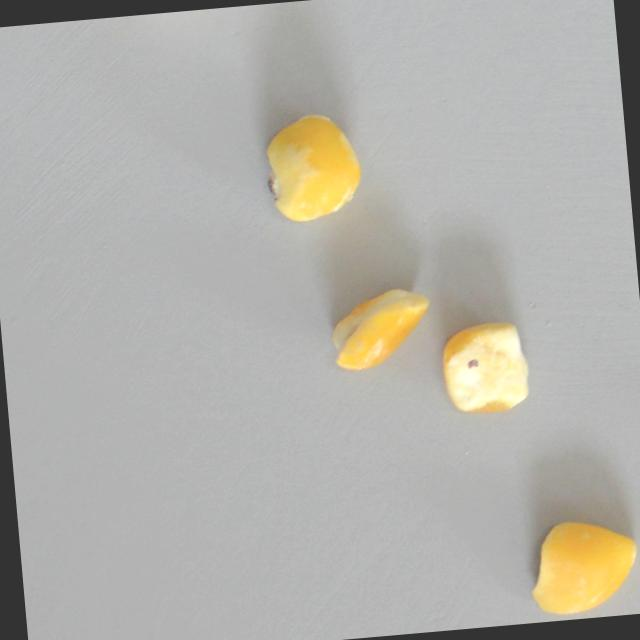dañado: (258, 105, 366, 227)
estandar: (522, 510, 640, 622)
pelicula: (325, 282, 438, 373)
punto_negro: (435, 314, 537, 423)
